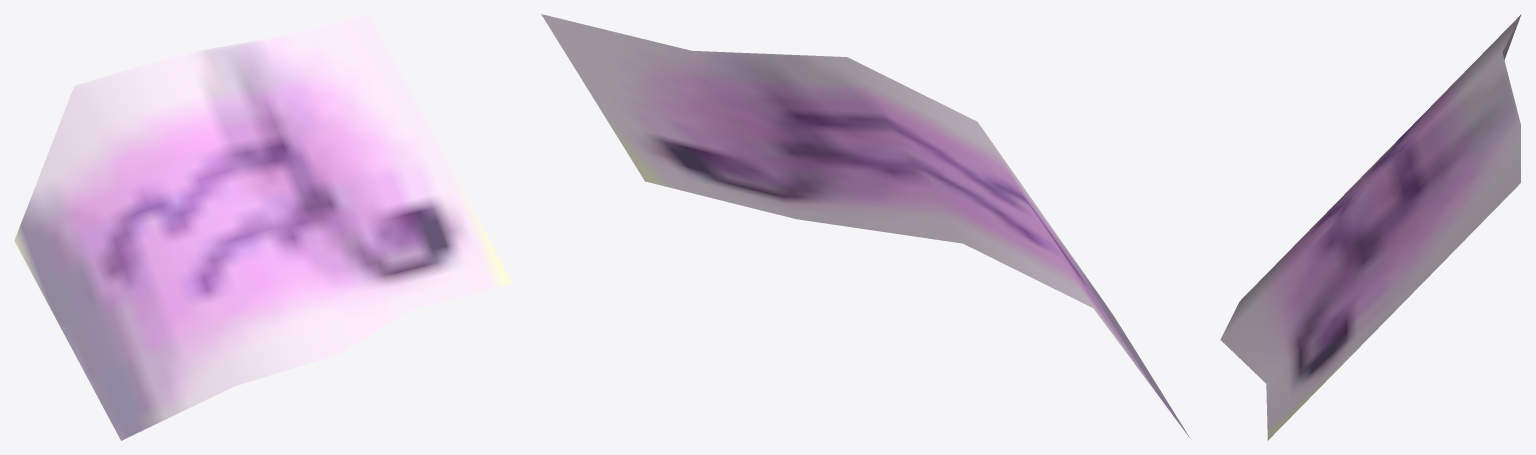
File: fg_omikuji_out.dae
3 renders of one model, left to right at view 1: azimuth 30°, elevation 25°; view 2: azimuth 150°, elevation 25°; view 3: azimuth 270°, elevation 25°, orthographic. The views are drawn at different scales.
Parts seen in each view (by area): view 1: fg_omikuji_out; view 2: fg_omikuji_out; view 3: fg_omikuji_out.
Boxes of the visible parts, x1,y1,x2,y2 form: fg_omikuji_out: [14, 14, 512, 440]; fg_omikuji_out: [541, 14, 1190, 438]; fg_omikuji_out: [1220, 14, 1521, 440].
Size of the model in its own units: 19.15 by 12.91 by 10.38.
1 material, 1 textured.
